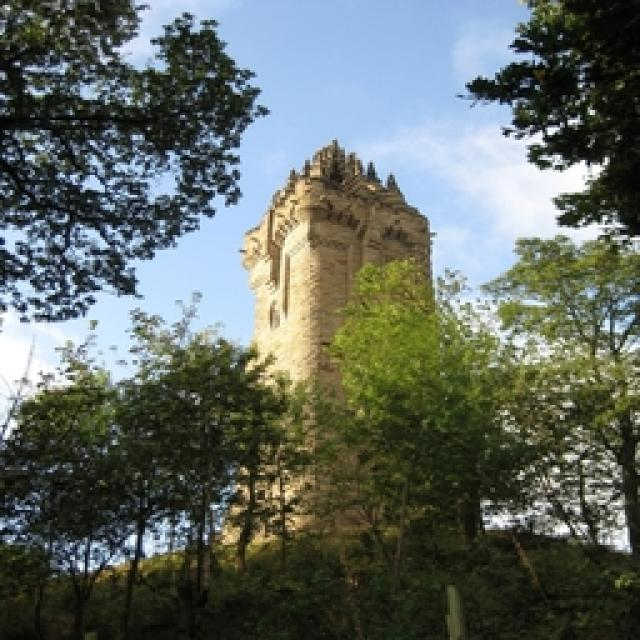Abbey: (217, 94, 461, 574)
